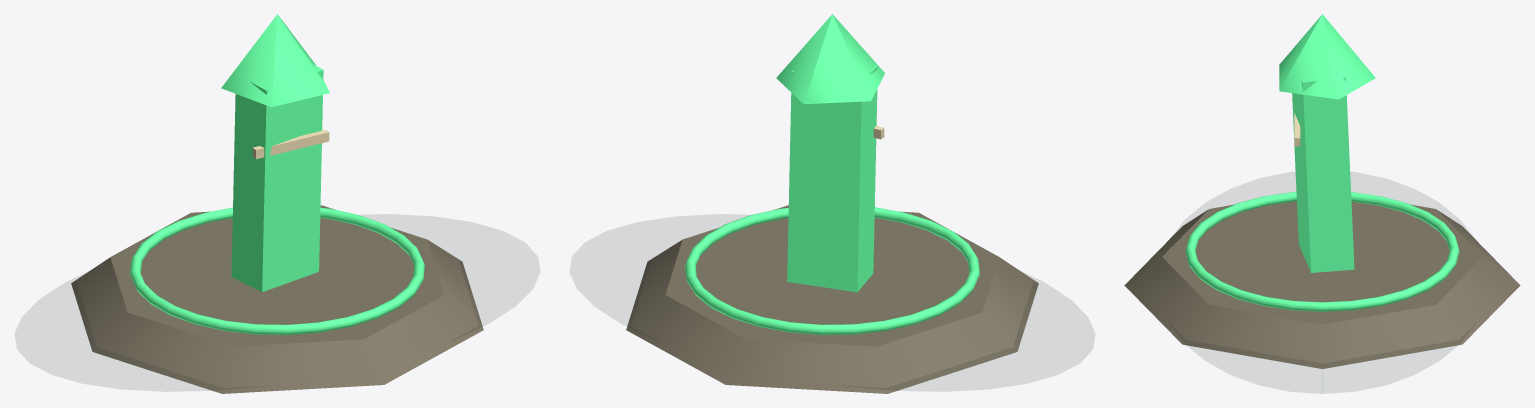
File: region_marker.glb
3 renders of one model, left to right at view 1: azimuth 30°, elevation 25°; view 2: azimuth 150°, elevation 25°; view 3: azimuth 270°, elevation 25°, orthographic. The views are drawn at different scales.
Visible parts, largest first — view 1: region_round_base, region_upright_marker, soft_ground_shadow, region_ground_ring, region_top_notch, region_inlay_band; view 2: region_round_base, region_upright_marker, soft_ground_shadow, region_ground_ring, region_top_notch; view 3: region_round_base, region_upright_marker, soft_ground_shadow, region_ground_ring, region_top_notch.
Boxes of the visible parts, x1,y1,x2,y2 form: region_round_base: (71,205,483,393); region_upright_marker: (231,64,323,291); soft_ground_shadow: (15,214,539,391); region_ground_ring: (130,207,424,334); region_top_notch: (221,14,329,107); region_inlay_band: (252,130,329,159); region_round_base: (626,205,1038,393); region_upright_marker: (787,65,877,292); soft_ground_shadow: (570,214,1094,391); region_ground_ring: (685,207,979,334); region_top_notch: (776,14,884,104); region_round_base: (1124,201,1520,368); region_upright_marker: (1292,76,1354,272); soft_ground_shadow: (1172,172,1473,393); region_ground_ring: (1185,192,1459,311); region_top_notch: (1279,14,1375,99).
Bounding box in the file's own units: 3.38 × 1.9 × 2.52.
